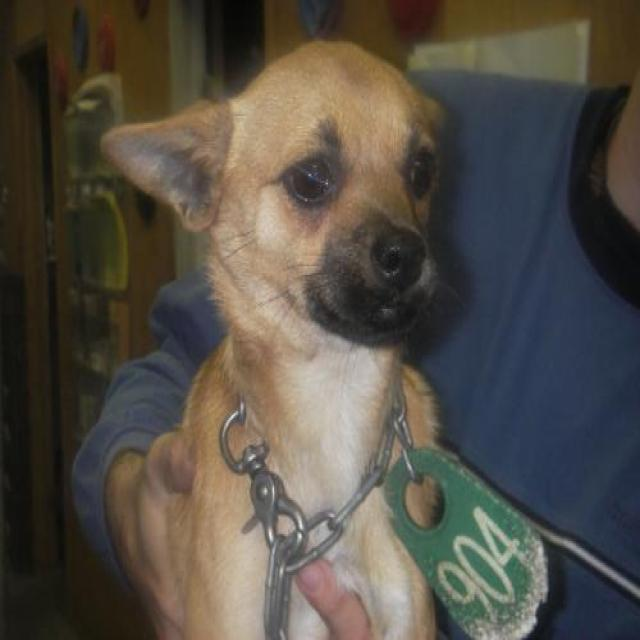Dogs: (97, 36, 456, 638)
